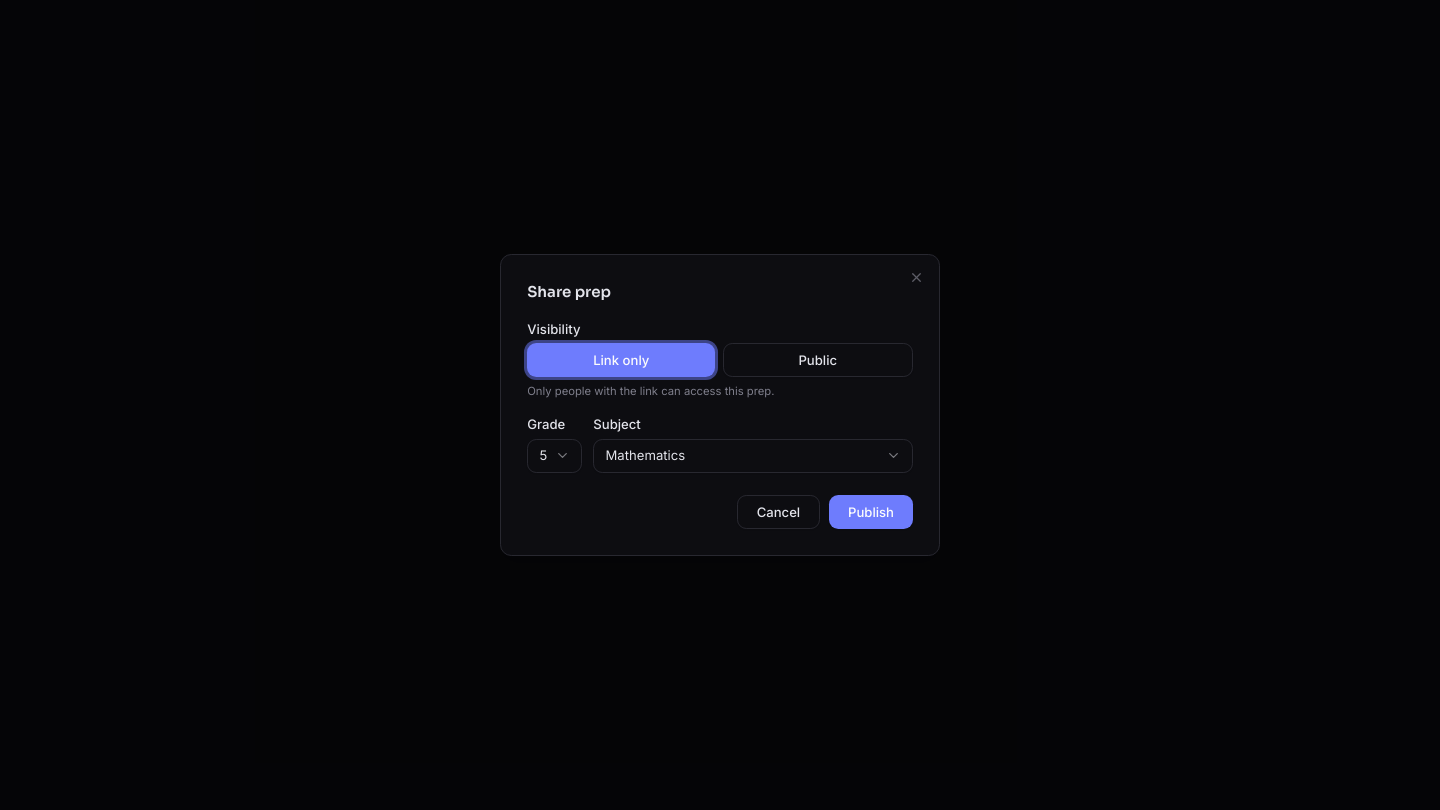
it: ShareModal — visibility toggle › switches visibility hint when Public is selected
What coordinates should you click on to do the following:
click the button "Public"
I would click on:
 (818, 360)
Its box is [723,343,913,377].
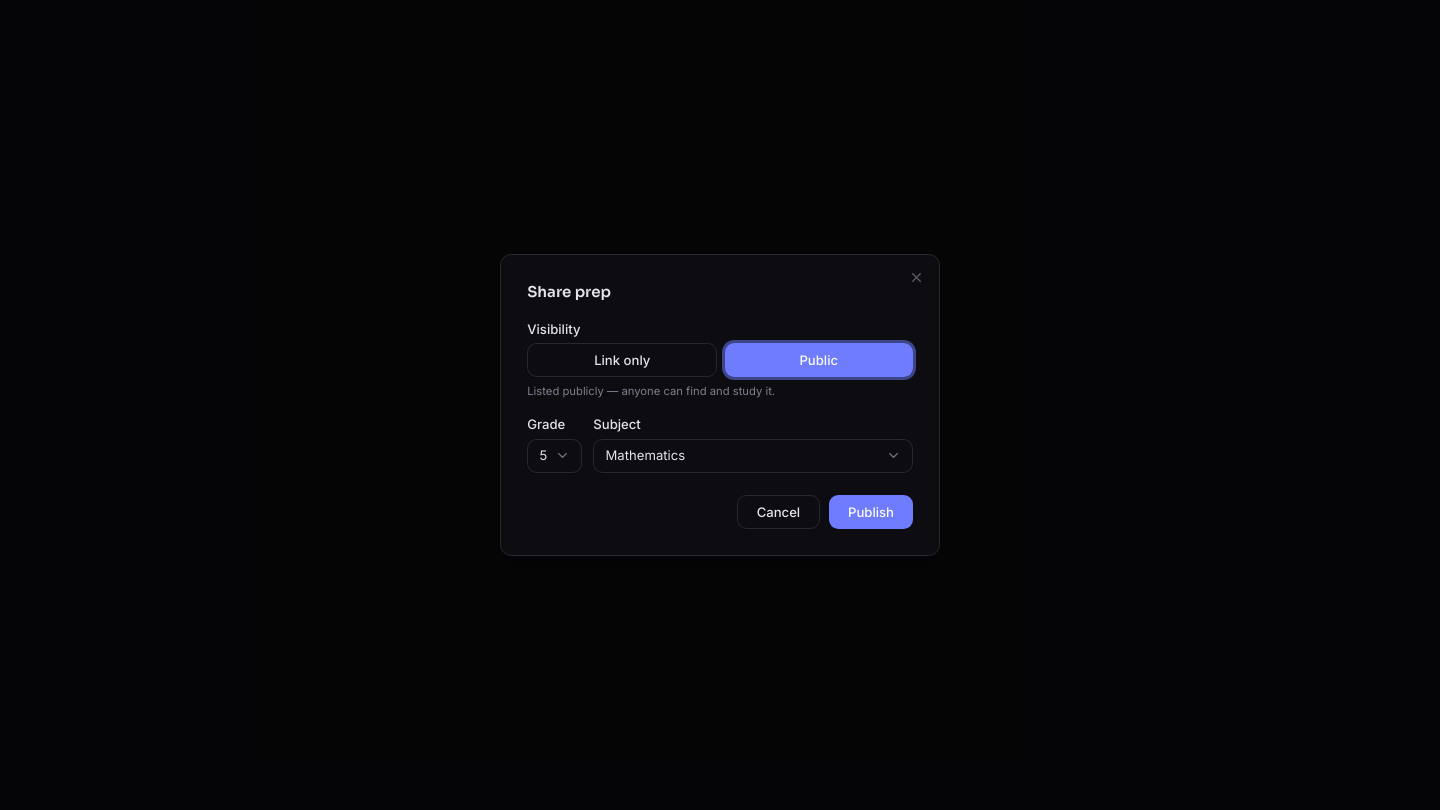
Check: the text "Listed publicly — anyone can find and study it." is shown, box [527,384,775,398]
